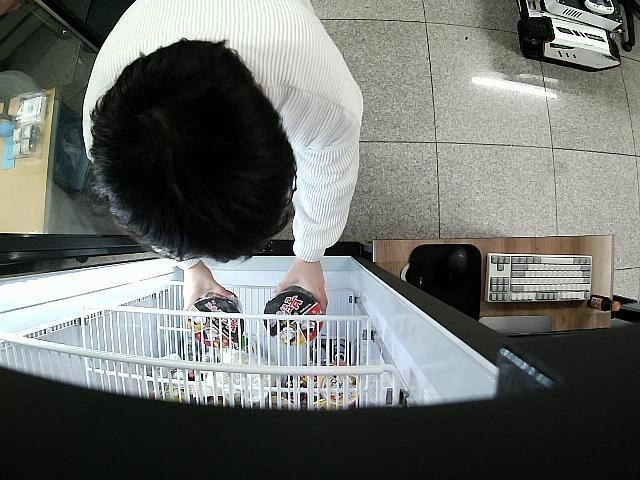07_buldak_L: (264, 288, 324, 346), (188, 290, 246, 349)
